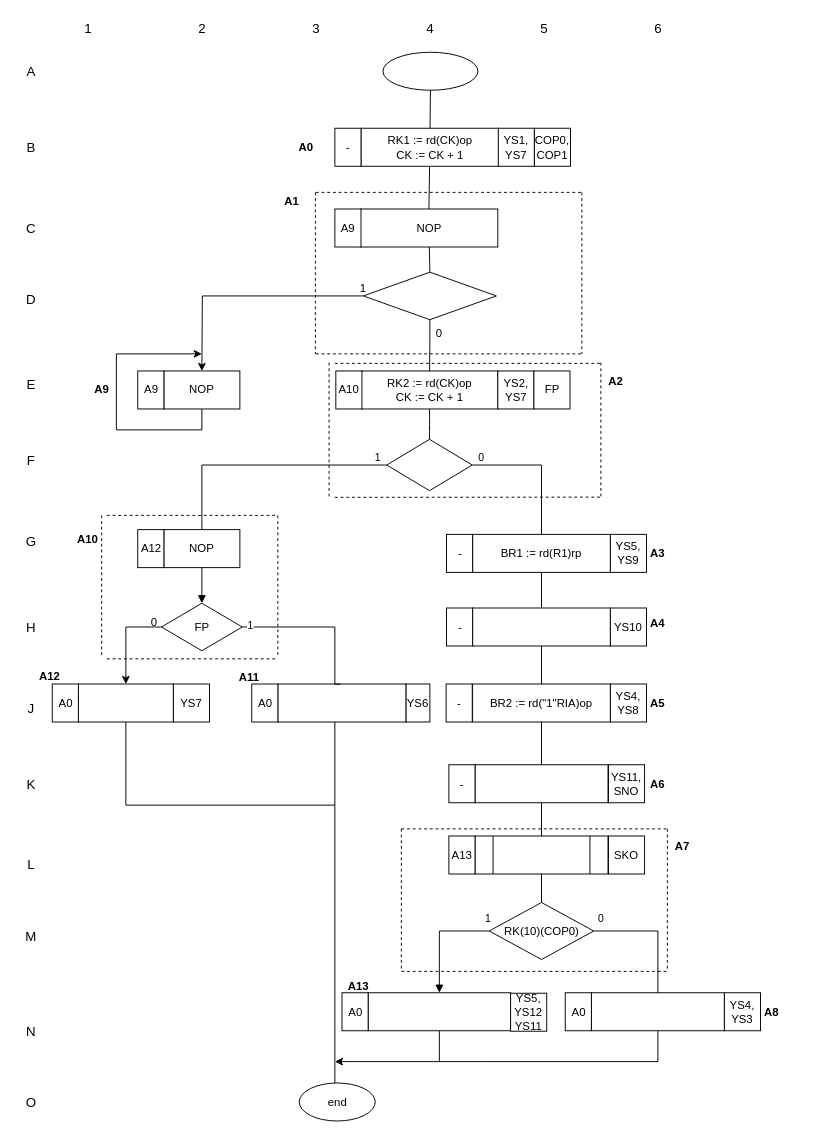
Image size: 816x1137. Some labels were removed from this diagram. The shapes that lost their labels are listed below. From the top down, each one's box as (x1, y1, x2, y2) in pixels, then its label:
(382, 51, 478, 90): begin
(362, 271, 496, 320): RK10(COP0) &&RK11(COP1)
(386, 438, 472, 491): RK11(COP1)
(472, 607, 610, 646): RIA := rd(R2)rp - 1
(77, 683, 173, 722): CK := CK +1
(277, 683, 406, 722): CK := CK + rd(CK)op +1
(474, 764, 608, 803): wr(R2)rp := rd(R2)rp - 1
(474, 835, 608, 874): АЛУ
(367, 992, 511, 1031): wr(R1)rp := R
(590, 992, 724, 1031): wr("1"RIA)op := R
